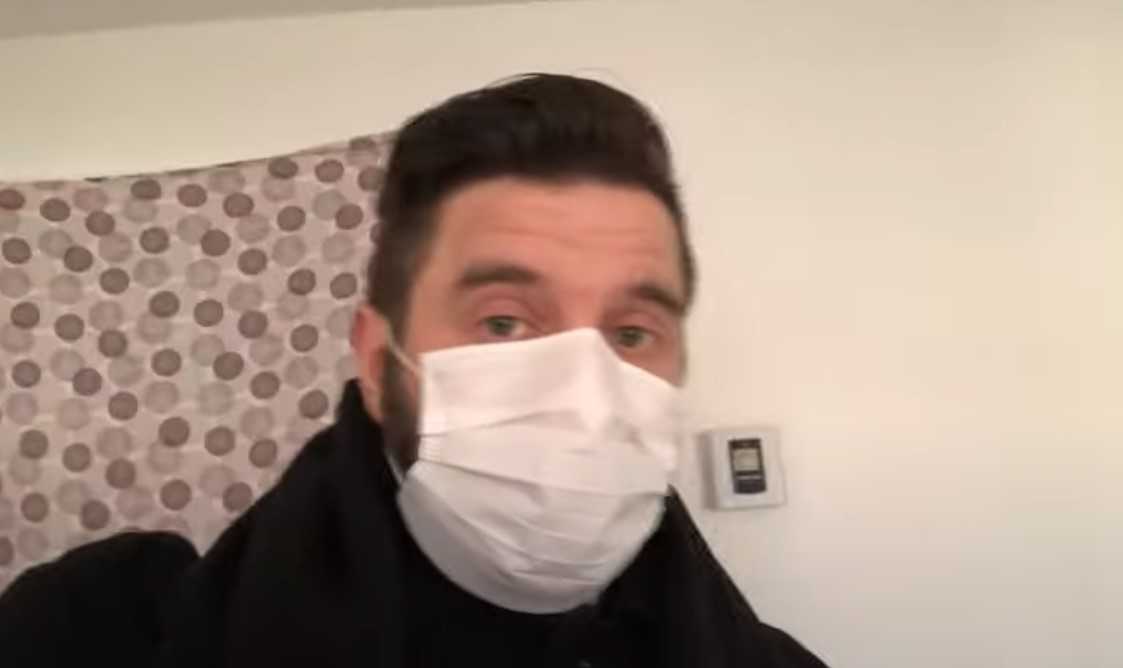face_with_mask: (353, 62, 695, 616)
